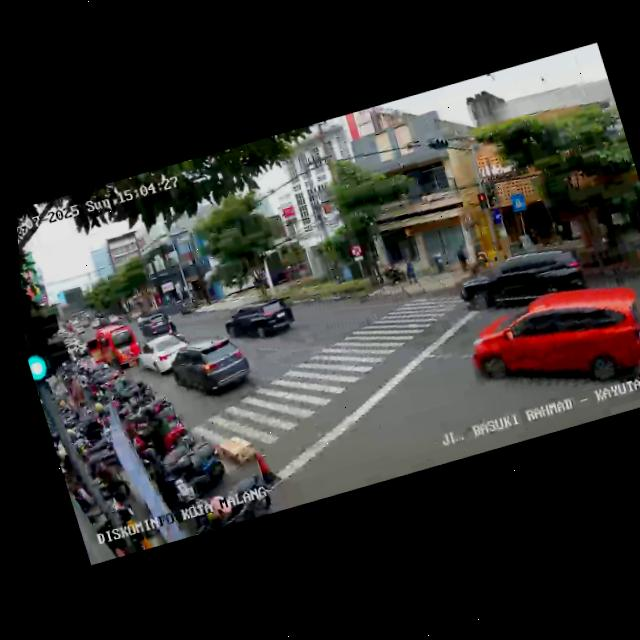car: (460, 271, 640, 424), (457, 236, 592, 321), (162, 326, 261, 409), (219, 291, 300, 350), (79, 319, 144, 379), (132, 328, 197, 380), (135, 309, 174, 341)
